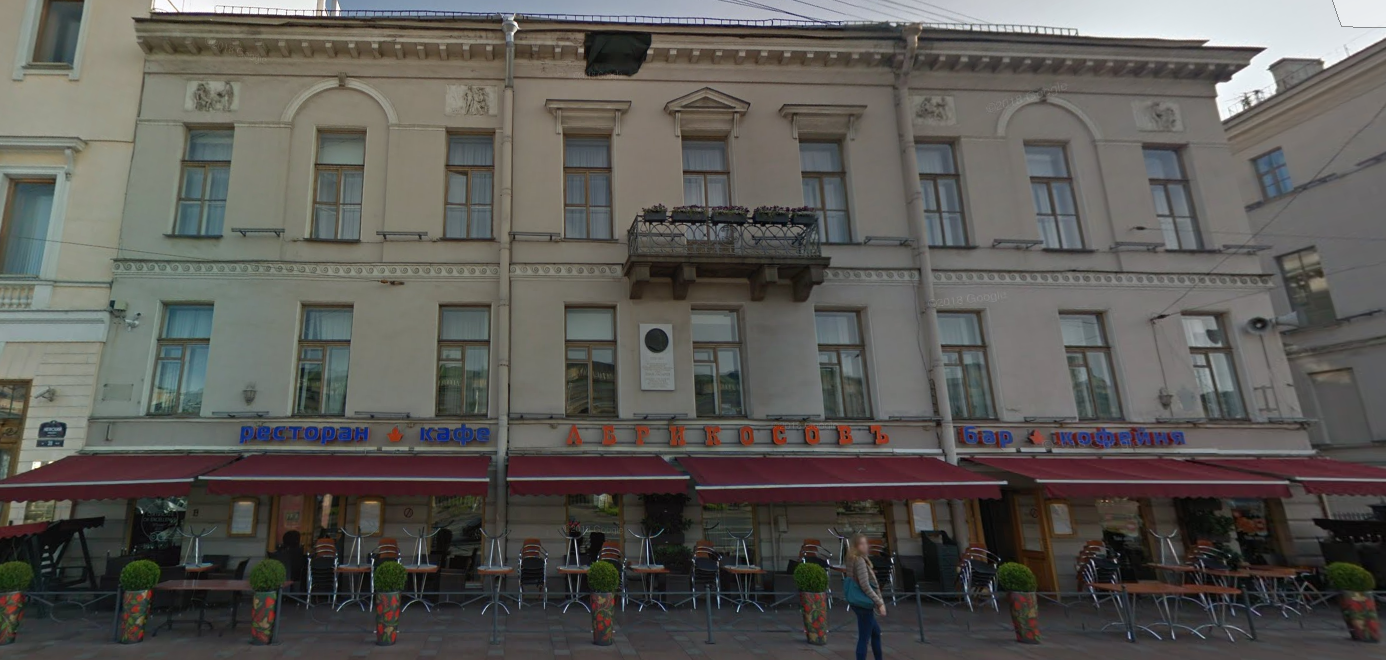signboard: (563, 421, 898, 458), (948, 419, 1198, 458), (237, 419, 490, 445)
window: (145, 300, 217, 414), (1052, 317, 1131, 419), (1143, 144, 1215, 255), (291, 300, 358, 418), (1182, 314, 1251, 421), (816, 304, 879, 421), (911, 134, 973, 247), (174, 125, 235, 239), (1025, 141, 1088, 249), (307, 132, 369, 237), (562, 303, 617, 421), (941, 309, 999, 419), (437, 302, 490, 418), (799, 139, 857, 244), (693, 304, 745, 418), (444, 132, 495, 238), (685, 138, 735, 241), (564, 127, 608, 239)
